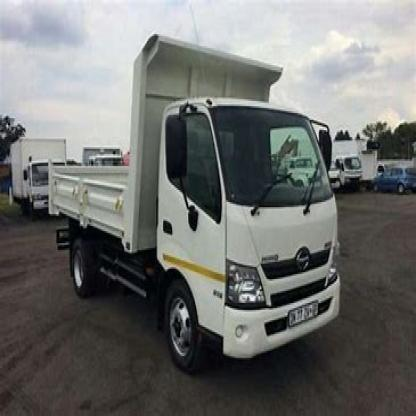dump_truck: (44, 28, 346, 384)
